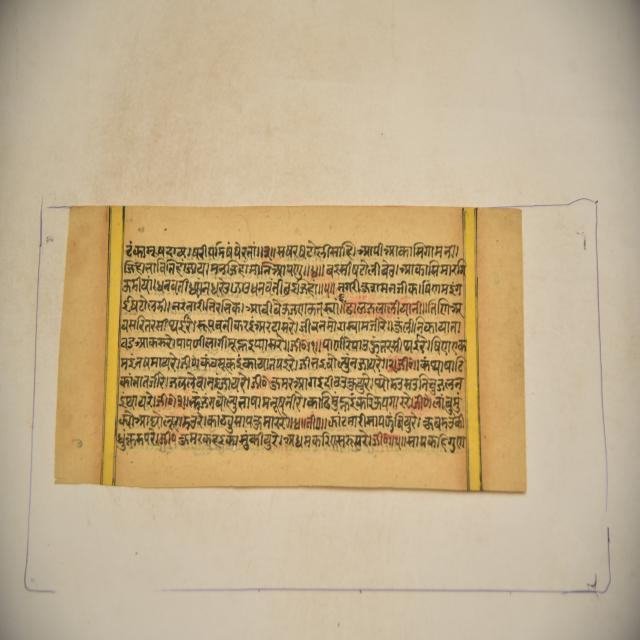text_paragraph: (57, 201, 523, 499)
